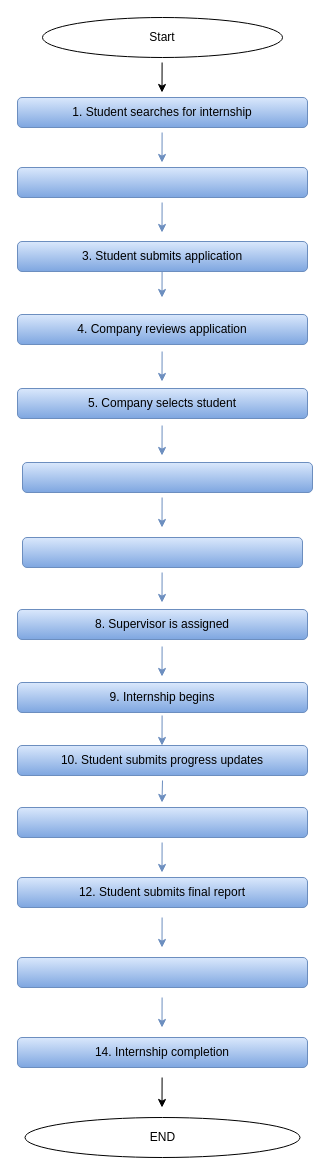
Image size: 330x1175. Some labels were removed from this diagram. The shapes that lost their labels are listed below. From the top down, each one's centre as x and y in pixels, then its label:
[162,182]: 2 . Student contacts company
[167,477]: 6 . University is informed
[162,552]: 7 . University verifies internship
[162,822]: 11 . Supervisor reviews progress
[162,972]: 13 . University evaluates internship
